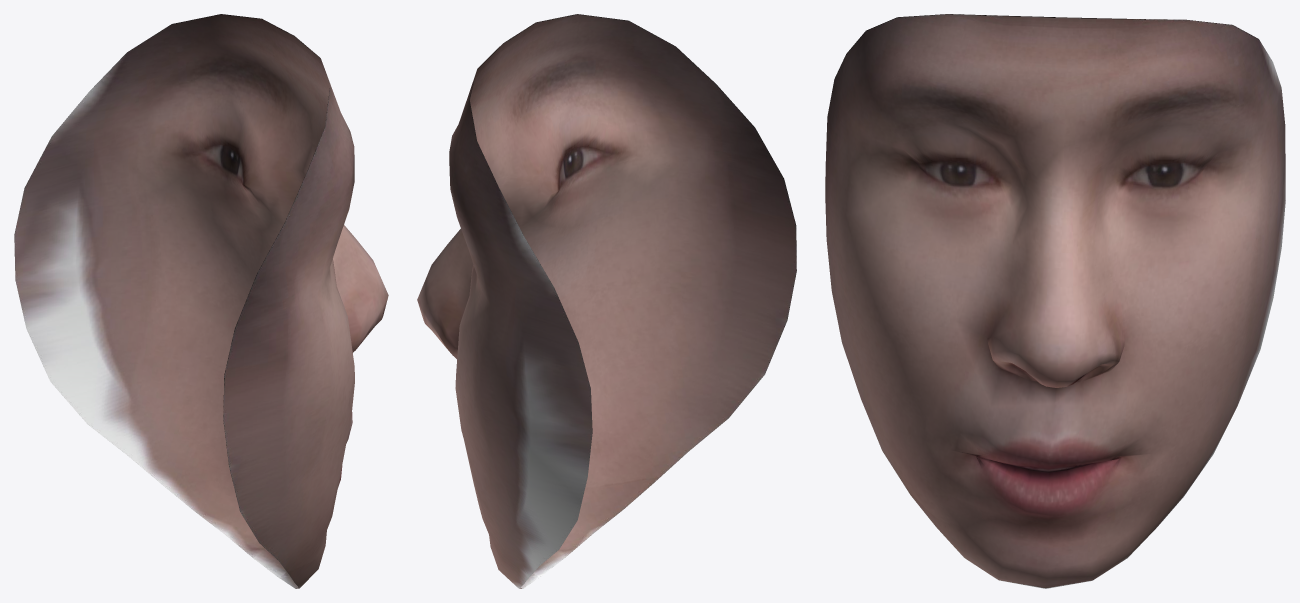
The model's file is afreecatv_mukbang.glb.
3 views of the same model, side by side, from view 1: azimuth 30°, elevation 25°; view 2: azimuth 150°, elevation 25°; view 3: azimuth 270°, elevation 25° (orthographic). The views are drawn at different scales.
Parts seen in each view (by area): view 1: afreecatv_mukbang; view 2: afreecatv_mukbang; view 3: afreecatv_mukbang.
Boxes of the visible parts, x1,y1,x2,y2 form: afreecatv_mukbang: (14, 14, 388, 588); afreecatv_mukbang: (417, 14, 796, 588); afreecatv_mukbang: (825, 14, 1285, 588).
Bounding box in the file's own units: 0.441 × 0.8371 × 0.5968.
1 material, 1 textured.
